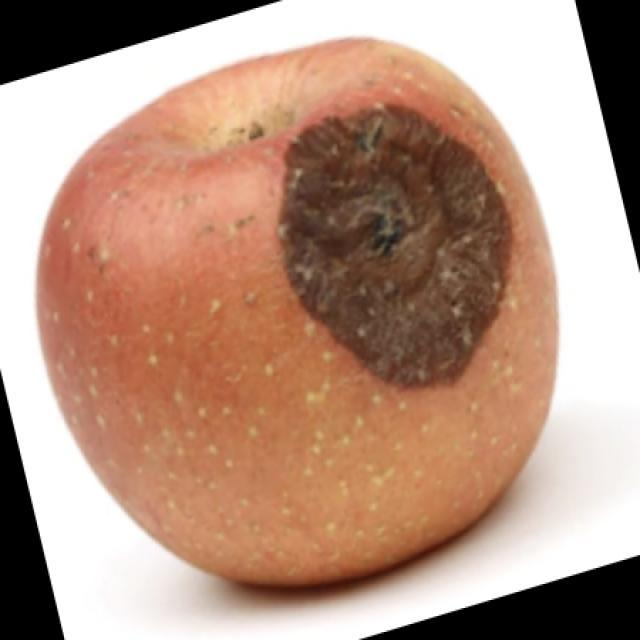Rotten: (33, 33, 559, 591)
